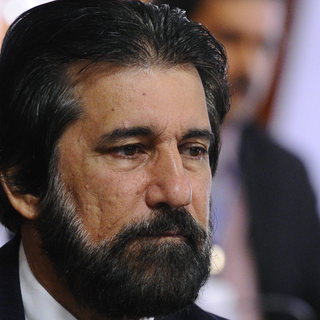eye: (99, 139, 147, 162), (177, 142, 210, 164)
